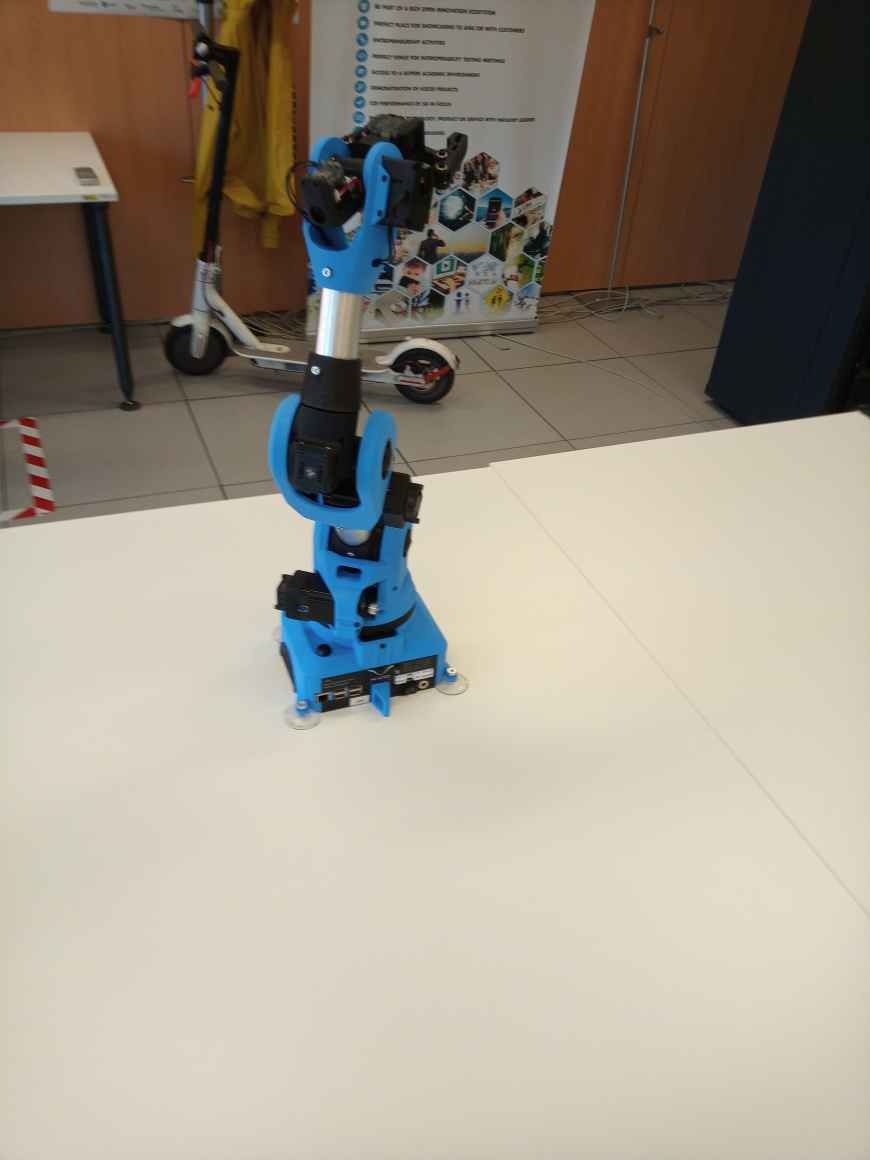robot: (267, 108, 478, 735)
